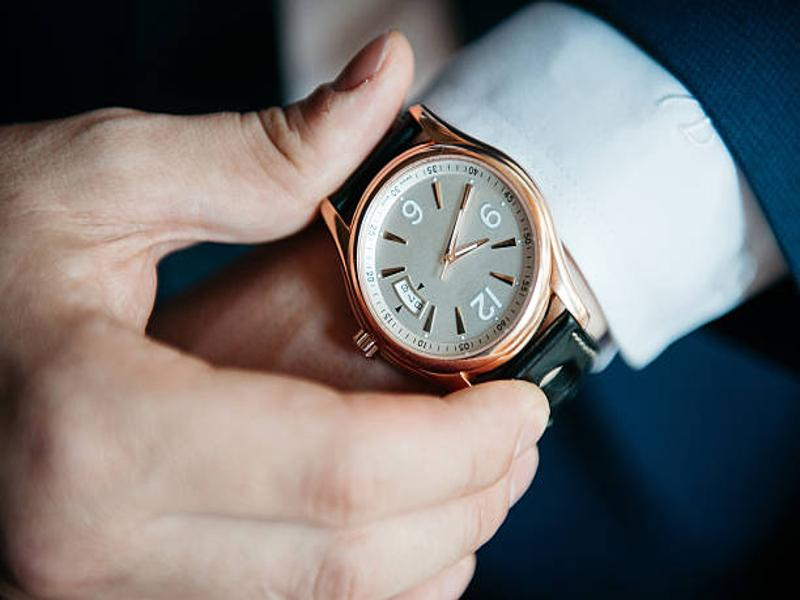watch: (314, 100, 604, 440)
